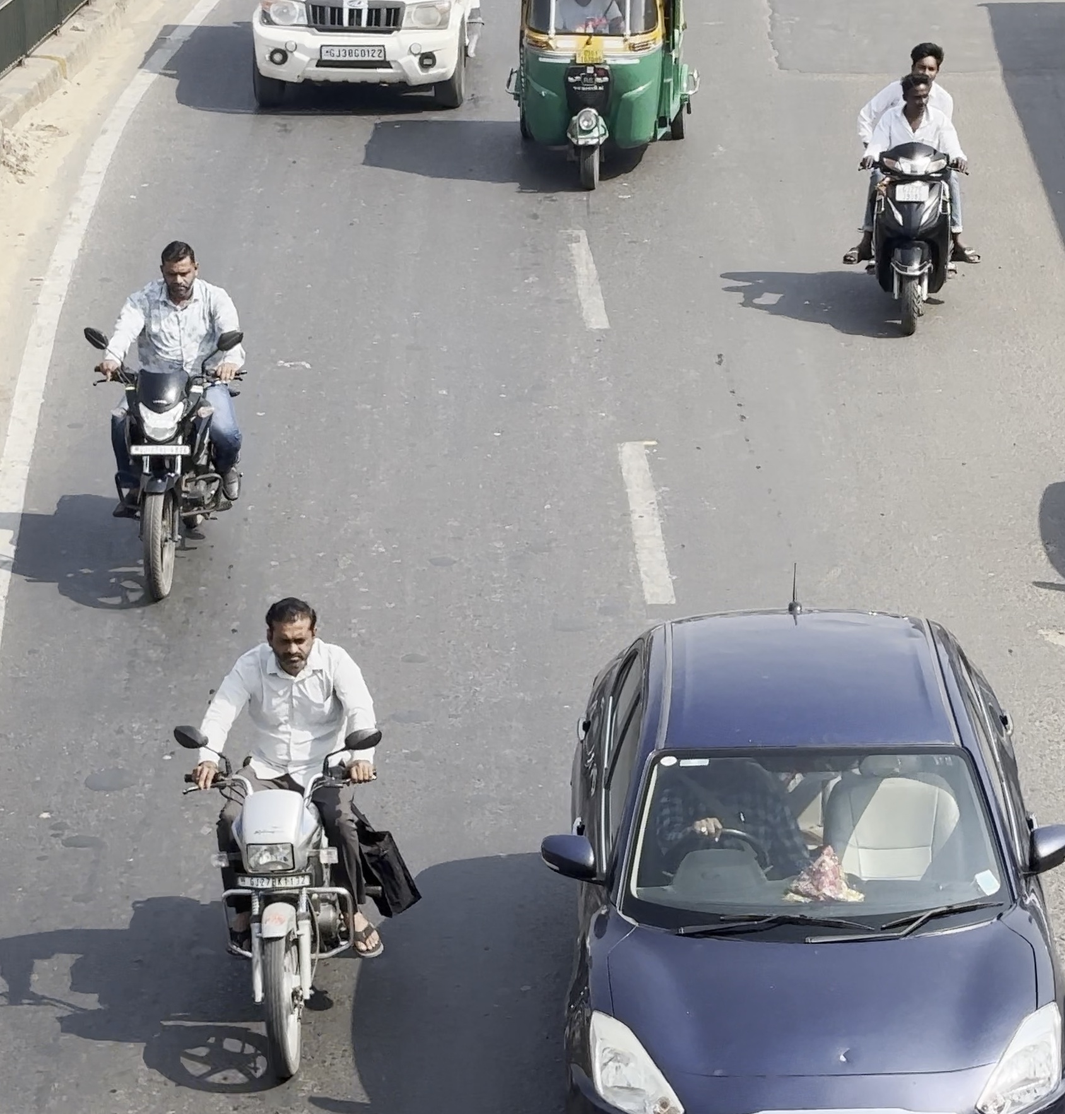BikeWithRider: (168, 588, 423, 1086), (76, 232, 267, 605), (831, 37, 992, 346)
NoHelmet: (252, 590, 335, 682), (143, 233, 206, 305), (890, 71, 942, 128), (909, 38, 946, 97)
